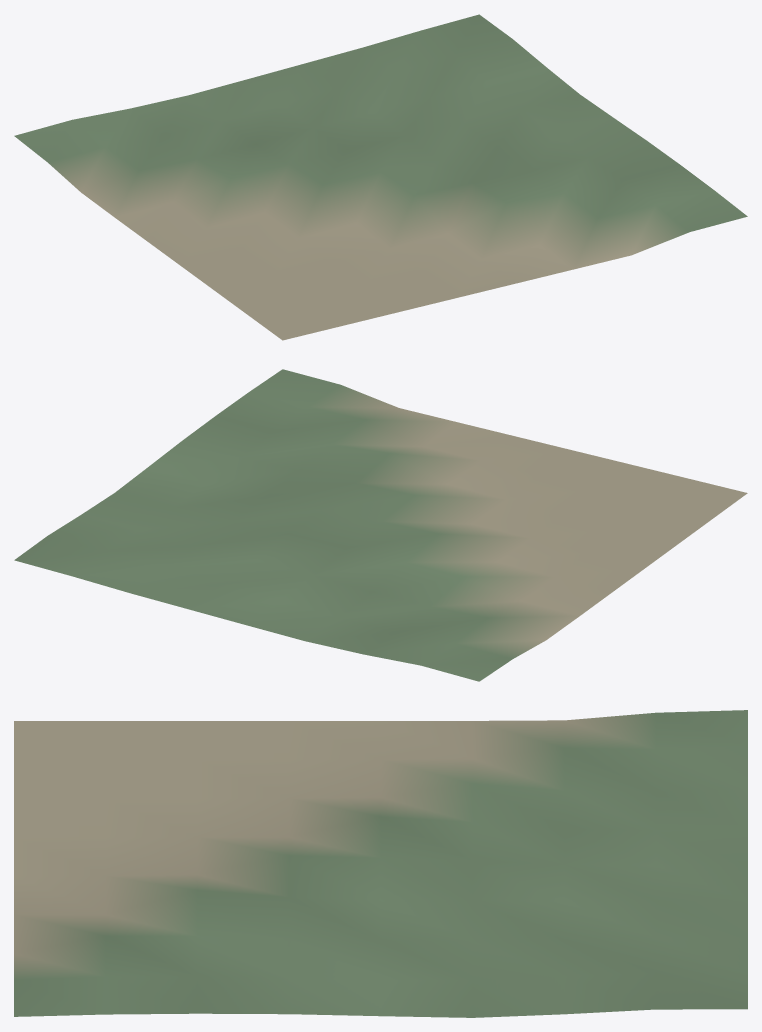
3 views of the same model, one above another, from view 1: azimuth 30°, elevation 25°; view 2: azimuth 150°, elevation 25°; view 3: azimuth 270°, elevation 25° (orthographic). The views are drawn at different scales.
Parts seen in each view (by area): view 1: Lo; view 2: Lo; view 3: Lo.
Boxes of the visible parts, bbox=[...] form: Lo: bbox=[14, 14, 747, 340]; Lo: bbox=[14, 369, 747, 681]; Lo: bbox=[14, 710, 747, 1017].
Bounding box in the file's own units: 256 × 9.38 × 256.
